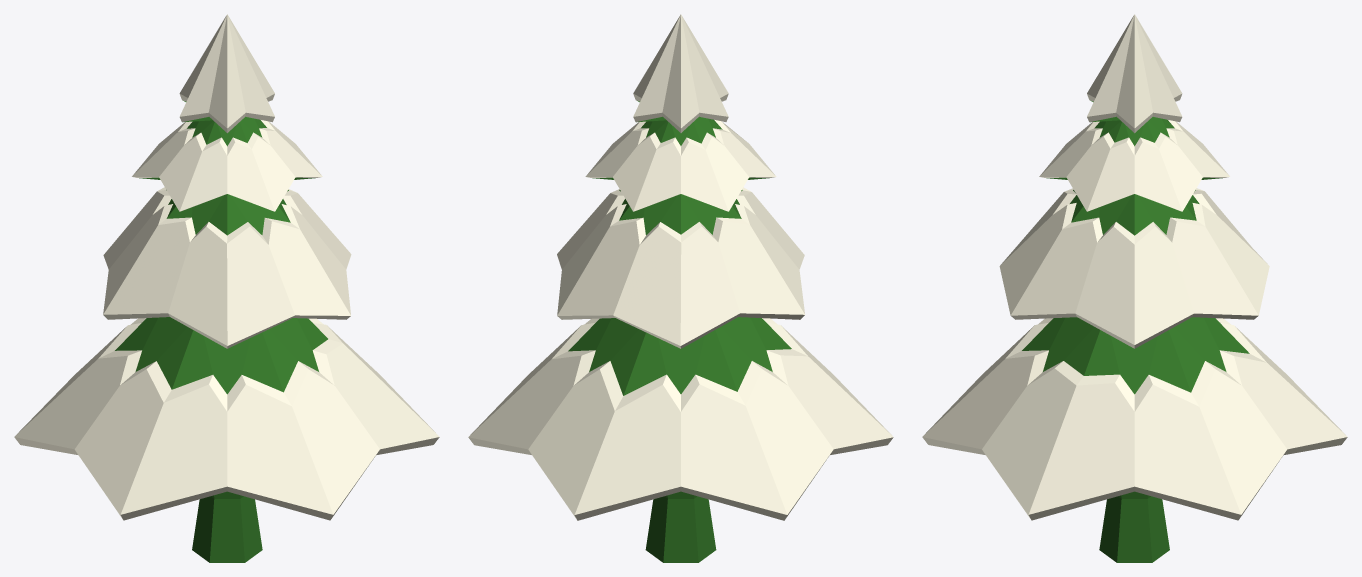
File: treeSnow01.glb
The picture shows the model from 3 angles, left to right: view 1: azimuth 30°, elevation 25°; view 2: azimuth 150°, elevation 25°; view 3: azimuth 270°, elevation 25°; orthographic projection.
Visible parts, largest first — view 1: Tree Snowy; view 2: Tree Snowy; view 3: Tree Snowy.
Boxes of the visible parts, x1=… form: Tree Snowy: x1=14, y1=14, x2=439, y2=562; Tree Snowy: x1=468, y1=14, x2=893, y2=562; Tree Snowy: x1=922, y1=14, x2=1347, y2=562.
Bounding box in the file's own units: 1.84 × 2.95 × 2.13.
